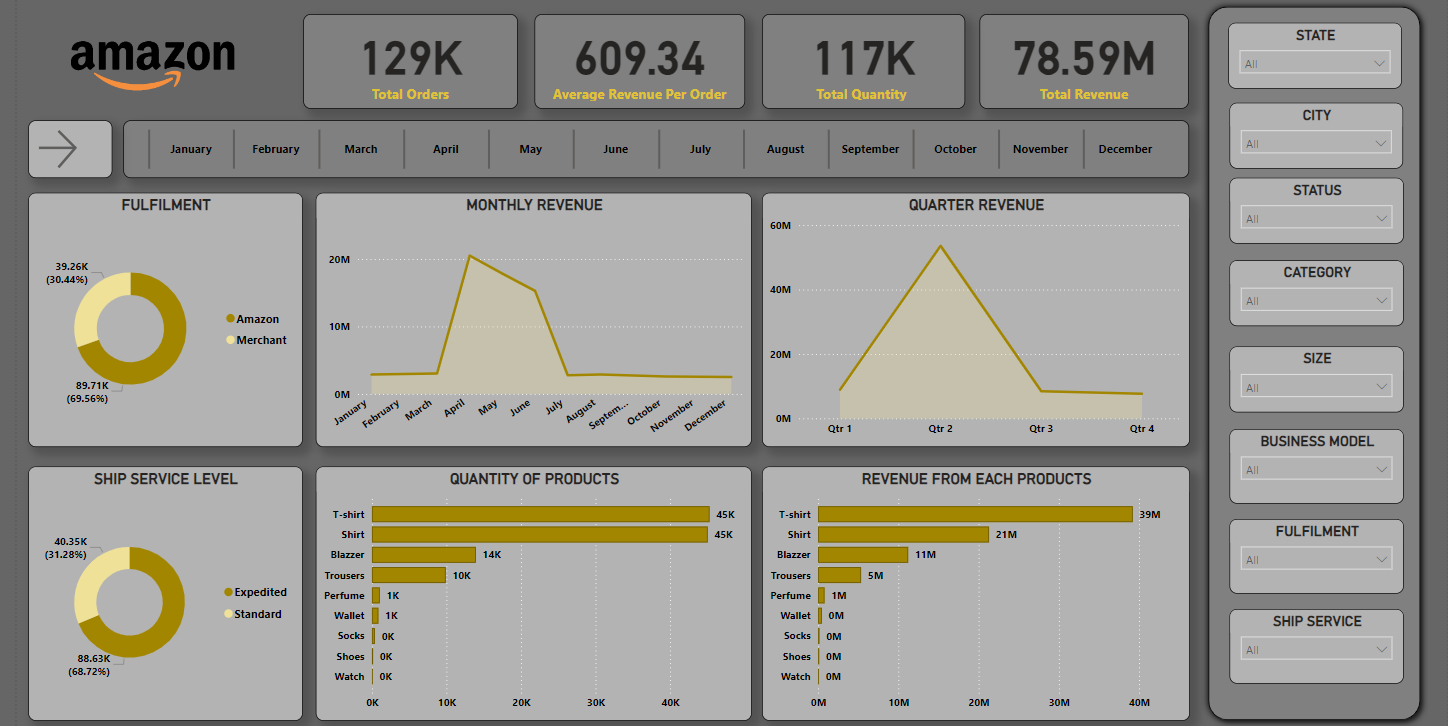

The page's visual inventory and layout, read from the dashboard file:
{"tool":"powerbi","page":{"name":"Page 1","canvas":[1700,875],"ordinal":0},"visuals":[{"type":"image","box":[3.8,11.2,313.8,123.8],"z":0},{"type":"card","title":"Total Revenue","fields":{"Values":["amazon_sales_data.Total Revenue"]},"box":[1145,17.5,248.8,112.5],"z":1000},{"type":"card","title":"Total Revenue","fields":{"Values":["amazon_sales_data.Total Quantity"]},"box":[885,17.5,241.2,112.5],"z":2000},{"type":"card","title":"Total Revenue","fields":{"Values":["amazon_sales_data.Total Orders"]},"box":[340,17.5,255,112.5],"z":3000},{"type":"card","title":"Total Revenue","fields":{"Values":["amazon_sales_data.Average Revenue Per Order"]},"box":[615,17.5,250,112.5],"z":4000},{"type":"shape","box":[1407.5,0,270,866.2],"z":5000},{"type":"slicer","fields":{"Values":["amazon_sales_data.Date.Variation.Date Hierarchy.Month"]},"box":[126.2,143.8,1267.5,68.8],"z":6000},{"type":"slicer","title":"STATE","fields":{"Values":["amazon_sales_data.State"]},"box":[1440,28.8,206.2,78.8],"z":7000},{"type":"slicer","title":"CITY","fields":{"Values":["amazon_sales_data.City"]},"box":[1441.2,123.8,206.2,78.8],"z":8000},{"type":"slicer","title":"STATUS","fields":{"Values":["amazon_sales_data.Courier Status"]},"box":[1441.2,212.5,207.5,78.8],"z":9000},{"type":"slicer","title":"CATEGORY","fields":{"Values":["amazon_sales_data.Category"]},"box":[1441.2,311.2,207.5,78.8],"z":10000},{"type":"slicer","title":"SIZE","fields":{"Values":["amazon_sales_data.Size"]},"box":[1441.2,412.5,207.5,78.8],"z":11000},{"type":"slicer","title":"BUSINESS MODEL","fields":{"Values":["amazon_sales_data.Business Model"]},"box":[1441.2,511.2,207.5,88.8],"z":12000},{"type":"slicer","title":"FULFILMENT","fields":{"Values":["amazon_sales_data.Fulfilment"]},"box":[1441.2,618.8,207.5,88.8],"z":13000},{"type":"slicer","title":"SHIP SERVICE ","fields":{"Values":["amazon_sales_data.ship-service-level"]},"box":[1441.2,725,207.5,88.8],"z":14000},{"type":"actionButton","box":[13.8,143.8,100,68.8],"z":15000},{"type":"donutChart","title":"FULFILMENT","fields":{"Category":["amazon_sales_data.Fulfilment"],"Y":["CountNonNull(amazon_sales_data.Fulfilment)"]},"box":[13.8,230,326.2,302.5],"z":16000},{"type":"donutChart","title":"SHIP SERVICE LEVEL","fields":{"Category":["amazon_sales_data.ship-service-level"],"Y":["CountNonNull(amazon_sales_data.ship-service-level)"]},"box":[13.8,556.2,326.2,302.5],"z":17000},{"type":"stackedAreaChart","title":"MONTHLY REVENUE","fields":{"Category":["amazon_sales_data.Date.Variation.Date Hierarchy.Month"],"Y":["amazon_sales_data.Total Revenue"]},"box":[355,230,518.8,302.5],"z":18000},{"type":"stackedAreaChart","title":"QUARTER REVENUE","fields":{"Category":["amazon_sales_data.Date.Variation.Date Hierarchy.Quarter"],"Y":["amazon_sales_data.Total Revenue"]},"box":[885,230,508.8,302.5],"z":19000},{"type":"clusteredBarChart","title":"QUANTITY OF PRODUCTS","fields":{"Category":["amazon_sales_data.Category"],"Y":["Sum(amazon_sales_data.Qty)"]},"box":[355,556.2,518.8,302.5],"z":20000},{"type":"clusteredBarChart","title":"REVENUE FROM EACH PRODUCTS","fields":{"Category":["amazon_sales_data.Category"],"Y":["Sum(amazon_sales_data.Amount)"]},"box":[885,556.2,508.8,302.5],"z":21000}]}

Visuals, with their boxes in screenshot pixels (x1, y1, x2, y2), scaled from the page's 1700x875 canvas onto the 1448x726 screenshot:
image: {"left": 3, "top": 9, "right": 271, "bottom": 112}
"Total Revenue" card: {"left": 975, "top": 15, "right": 1187, "bottom": 108}
"Total Revenue" card: {"left": 754, "top": 15, "right": 959, "bottom": 108}
"Total Revenue" card: {"left": 290, "top": 15, "right": 507, "bottom": 108}
"Total Revenue" card: {"left": 524, "top": 15, "right": 737, "bottom": 108}
shape: {"left": 1199, "top": 0, "right": 1429, "bottom": 719}
slicer - amazon_sales_data.Date.Variation.Date Hierarchy.Month: {"left": 107, "top": 119, "right": 1187, "bottom": 176}
"STATE" slicer: {"left": 1227, "top": 24, "right": 1402, "bottom": 89}
"CITY" slicer: {"left": 1228, "top": 103, "right": 1403, "bottom": 168}
"STATUS" slicer: {"left": 1228, "top": 176, "right": 1404, "bottom": 242}
"CATEGORY" slicer: {"left": 1228, "top": 258, "right": 1404, "bottom": 324}
"SIZE" slicer: {"left": 1228, "top": 342, "right": 1404, "bottom": 408}
"BUSINESS MODEL" slicer: {"left": 1228, "top": 424, "right": 1404, "bottom": 498}
"FULFILMENT" slicer: {"left": 1228, "top": 513, "right": 1404, "bottom": 587}
"SHIP SERVICE " slicer: {"left": 1228, "top": 602, "right": 1404, "bottom": 675}
actionButton: {"left": 12, "top": 119, "right": 97, "bottom": 176}
"FULFILMENT" donutChart: {"left": 12, "top": 191, "right": 290, "bottom": 442}
"SHIP SERVICE LEVEL" donutChart: {"left": 12, "top": 461, "right": 290, "bottom": 712}
"MONTHLY REVENUE" stackedAreaChart: {"left": 302, "top": 191, "right": 744, "bottom": 442}
"QUARTER REVENUE" stackedAreaChart: {"left": 754, "top": 191, "right": 1187, "bottom": 442}
"QUANTITY OF PRODUCTS" clusteredBarChart: {"left": 302, "top": 461, "right": 744, "bottom": 712}
"REVENUE FROM EACH PRODUCTS" clusteredBarChart: {"left": 754, "top": 461, "right": 1187, "bottom": 712}
